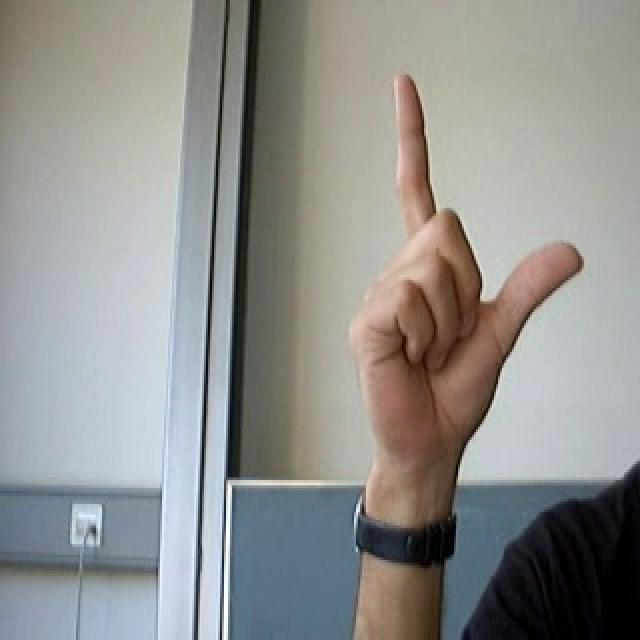L: (335, 59, 589, 483)
